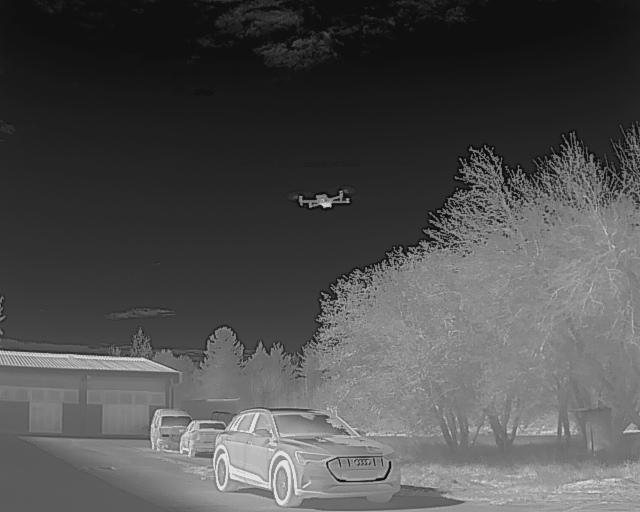drone: (283, 183, 361, 214)
